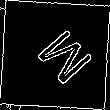M_SW: (21, 21, 89, 89)
